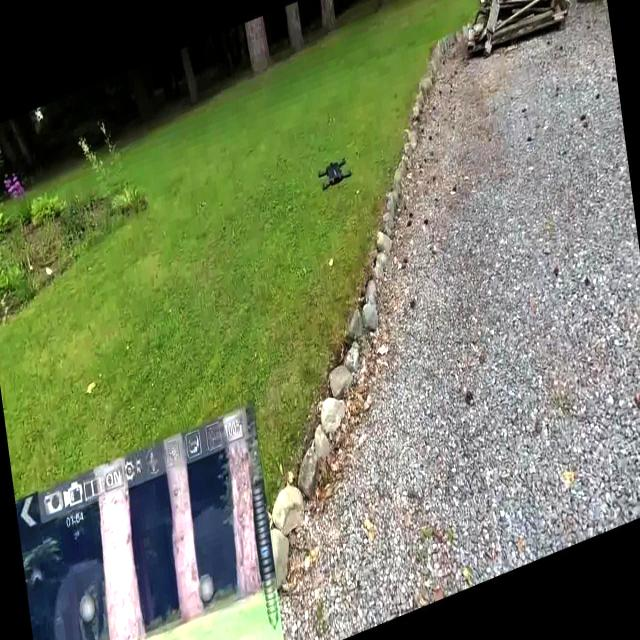drone: (316, 151, 352, 192)
